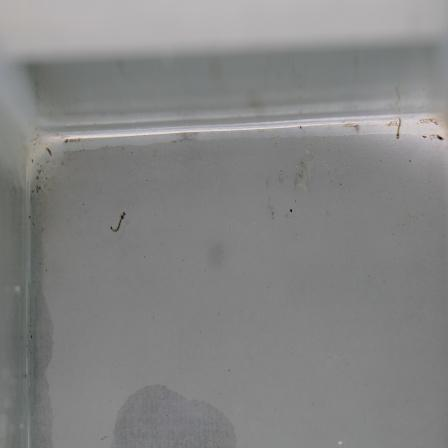Jentik-Nyamuk: (106, 206, 131, 239), (393, 116, 405, 143)
